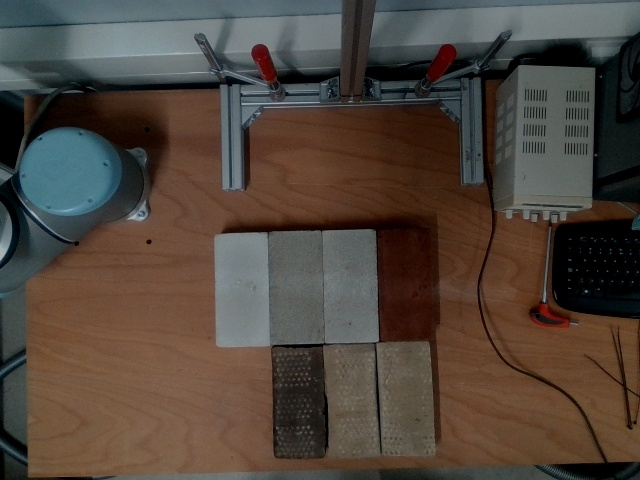brick: (268, 230, 326, 345), (377, 341, 436, 454), (324, 343, 381, 456), (323, 230, 380, 341), (214, 234, 270, 346), (273, 347, 326, 458), (378, 230, 431, 339)
